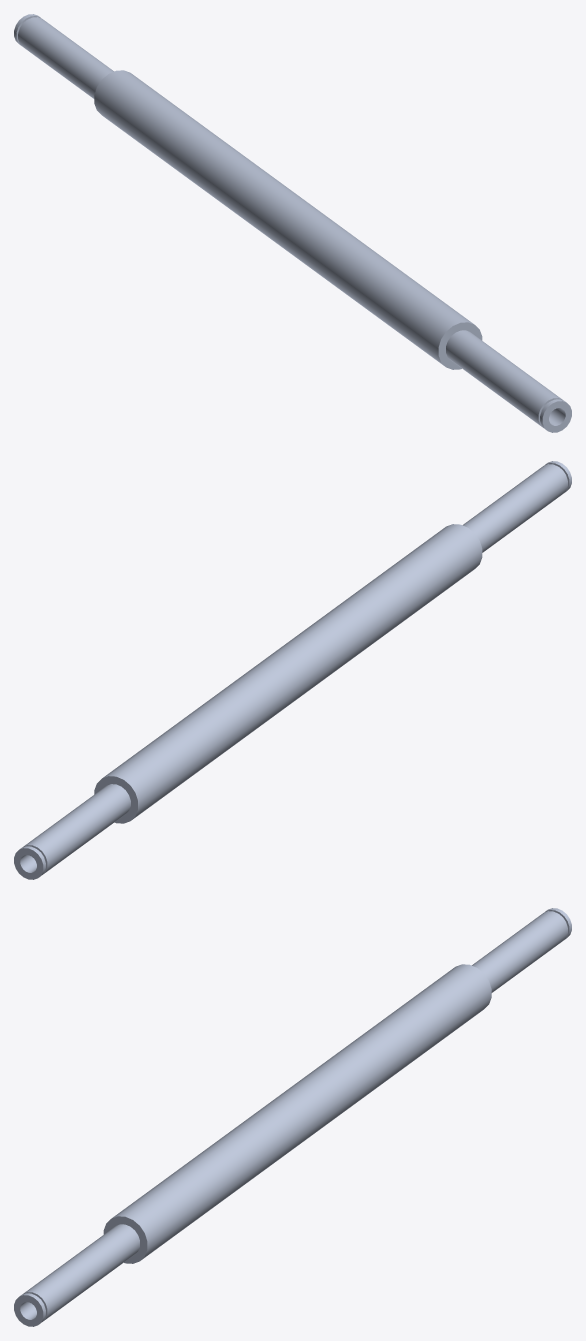
3 views of the same model, one above another, from view 1: azimuth 30°, elevation 25°; view 2: azimuth 150°, elevation 25°; view 3: azimuth 330°, elevation 25° (orthographic).
Parts seen in each view (by area): view 1: 切除-拉伸5; view 2: 切除-拉伸5; view 3: 切除-拉伸5.
Boxes of the visible parts, box(x1,y1,x2,y2) form: 切除-拉伸5: box(14, 14, 571, 432); 切除-拉伸5: box(14, 461, 571, 879); 切除-拉伸5: box(14, 908, 571, 1326).
Size of the model in its own units: 1.18 by 1.2 by 24.57.
